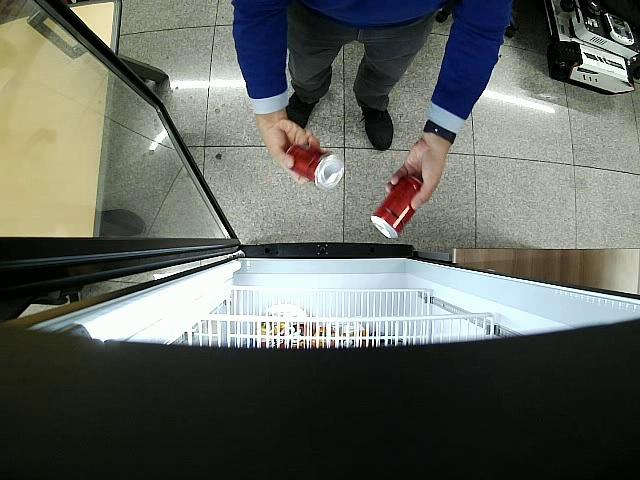00_hand: (385, 137, 445, 210), (258, 116, 321, 185)
11_cocaColaZero: (371, 173, 423, 239), (285, 145, 345, 190)
